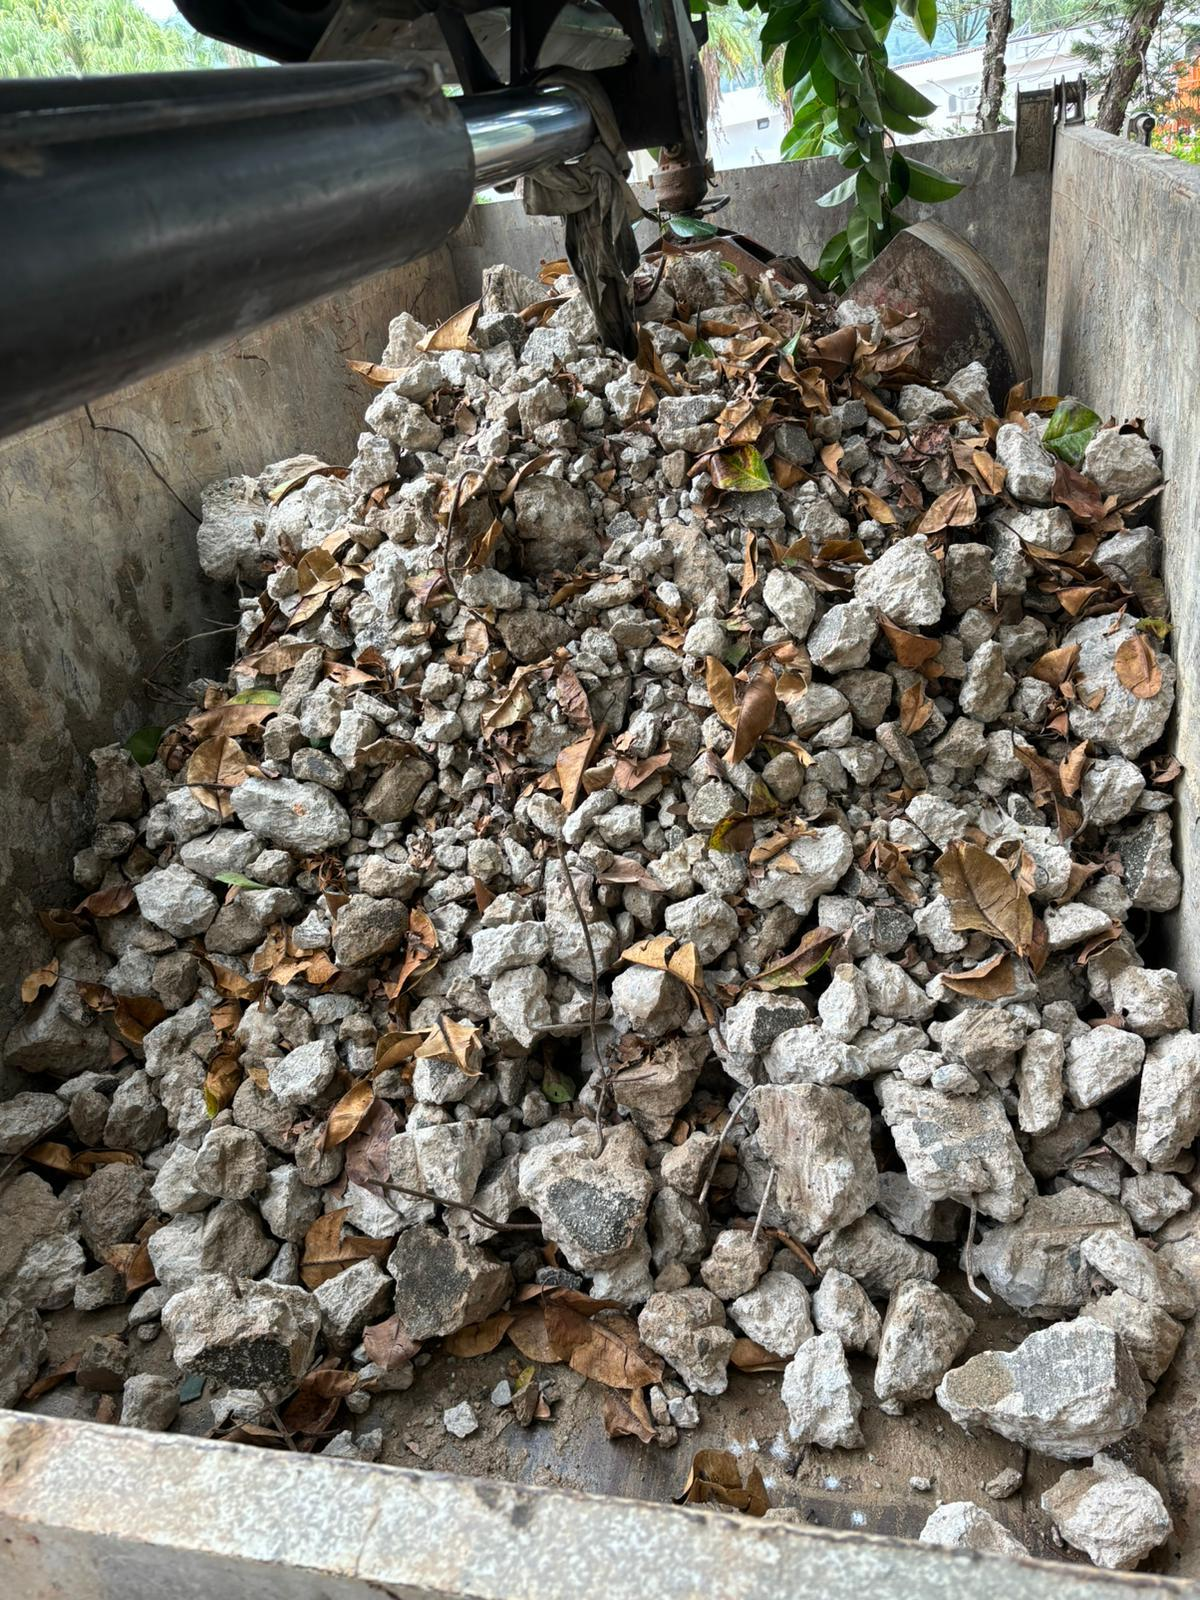dry: (373, 427, 1095, 1377)
